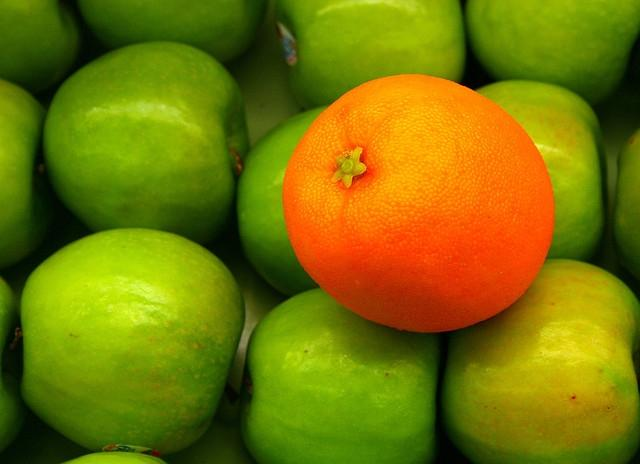apple: (20, 227, 246, 457), (42, 39, 253, 244), (442, 258, 639, 462), (239, 287, 445, 464), (475, 80, 609, 264), (274, 0, 466, 111), (465, 0, 640, 107), (235, 106, 328, 297), (76, 1, 270, 65), (224, 0, 306, 148), (0, 78, 60, 274), (0, 0, 80, 95), (160, 418, 258, 464), (615, 128, 640, 279), (0, 276, 20, 362), (60, 451, 168, 464)
orange: (282, 75, 556, 333)
